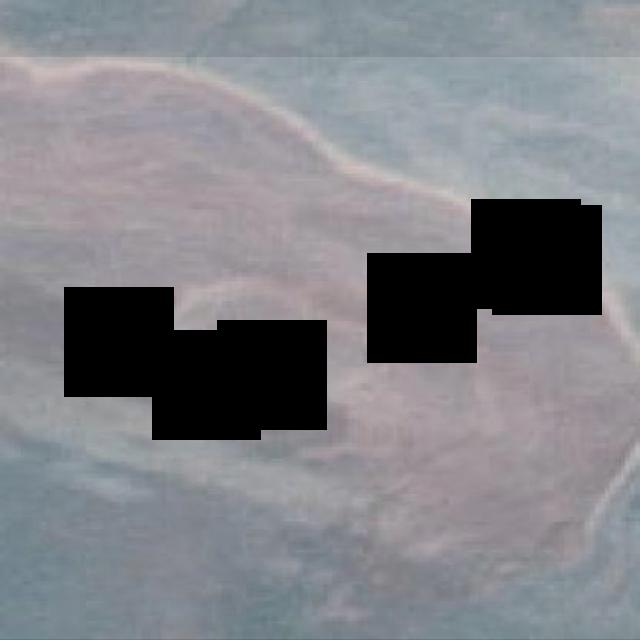oil spill: (0, 57, 640, 639)
